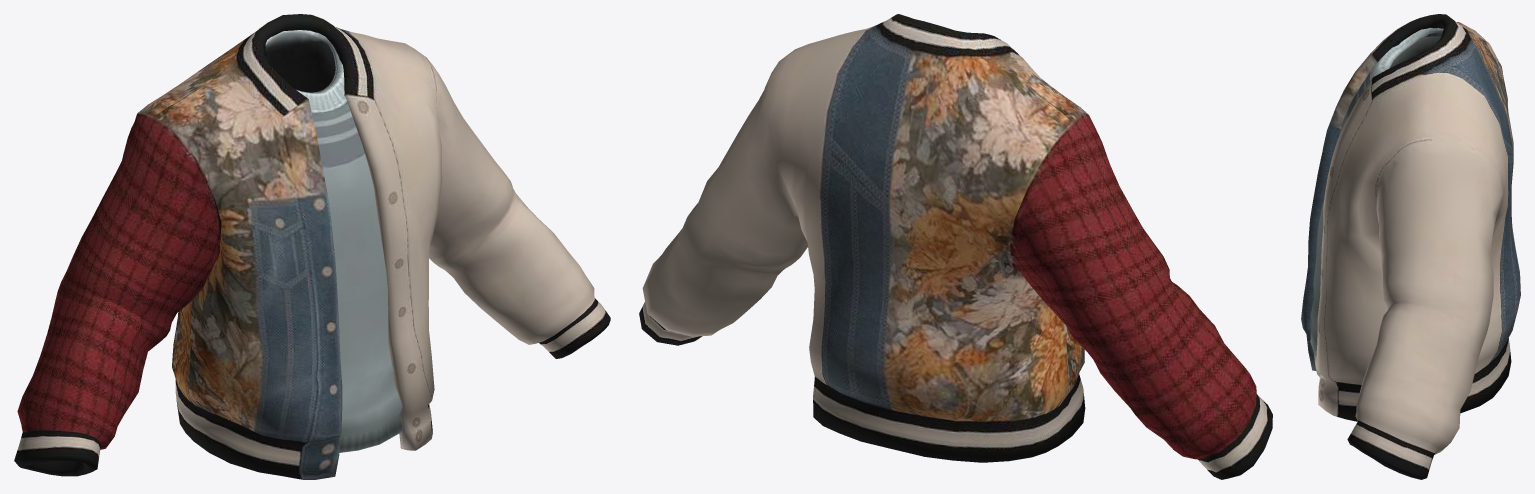
The picture shows the model from 3 angles, left to right: view 1: azimuth 30°, elevation 25°; view 2: azimuth 150°, elevation 25°; view 3: azimuth 270°, elevation 25°; orthographic projection. The views are drawn at different scales.
Parts seen in each view (by area): view 1: Wolf3D_Outfit_Top; view 2: Wolf3D_Outfit_Top; view 3: Wolf3D_Outfit_Top.
Boxes of the visible parts, <box> form: Wolf3D_Outfit_Top: <box>14,14,610,479</box>; Wolf3D_Outfit_Top: <box>639,14,1272,479</box>; Wolf3D_Outfit_Top: <box>1301,14,1520,479</box>.
Size of the model in its own units: 1.01 by 0.6651 by 0.3683.
1 material, 1 textured.
